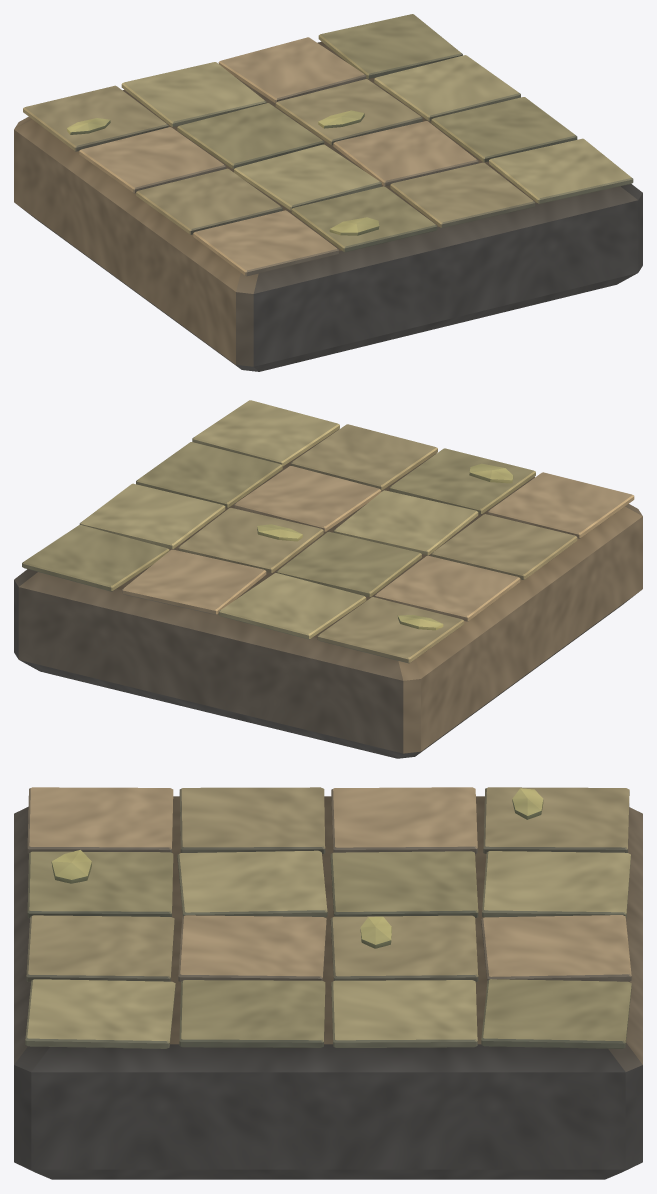
The model's file is dusk_floor_root.glb.
3 renders of one model, top to bottom at view 1: azimuth 30°, elevation 25°; view 2: azimuth 150°, elevation 25°; view 3: azimuth 270°, elevation 25°, orthographic. The views are drawn at different scales.
Parts seen in each view (by area): view 1: Dämmergänge · root; view 2: Dämmergänge · root; view 3: Dämmergänge · root.
Boxes of the visible parts, bbox=[...] form: Dämmergänge · root: bbox=[14, 14, 642, 371]; Dämmergänge · root: bbox=[14, 400, 642, 758]; Dämmergänge · root: bbox=[14, 787, 642, 1179].
Size of the model in its own units: 2.4 by 0.626 by 2.4.
Materials: 1 (1 with a texture image).
